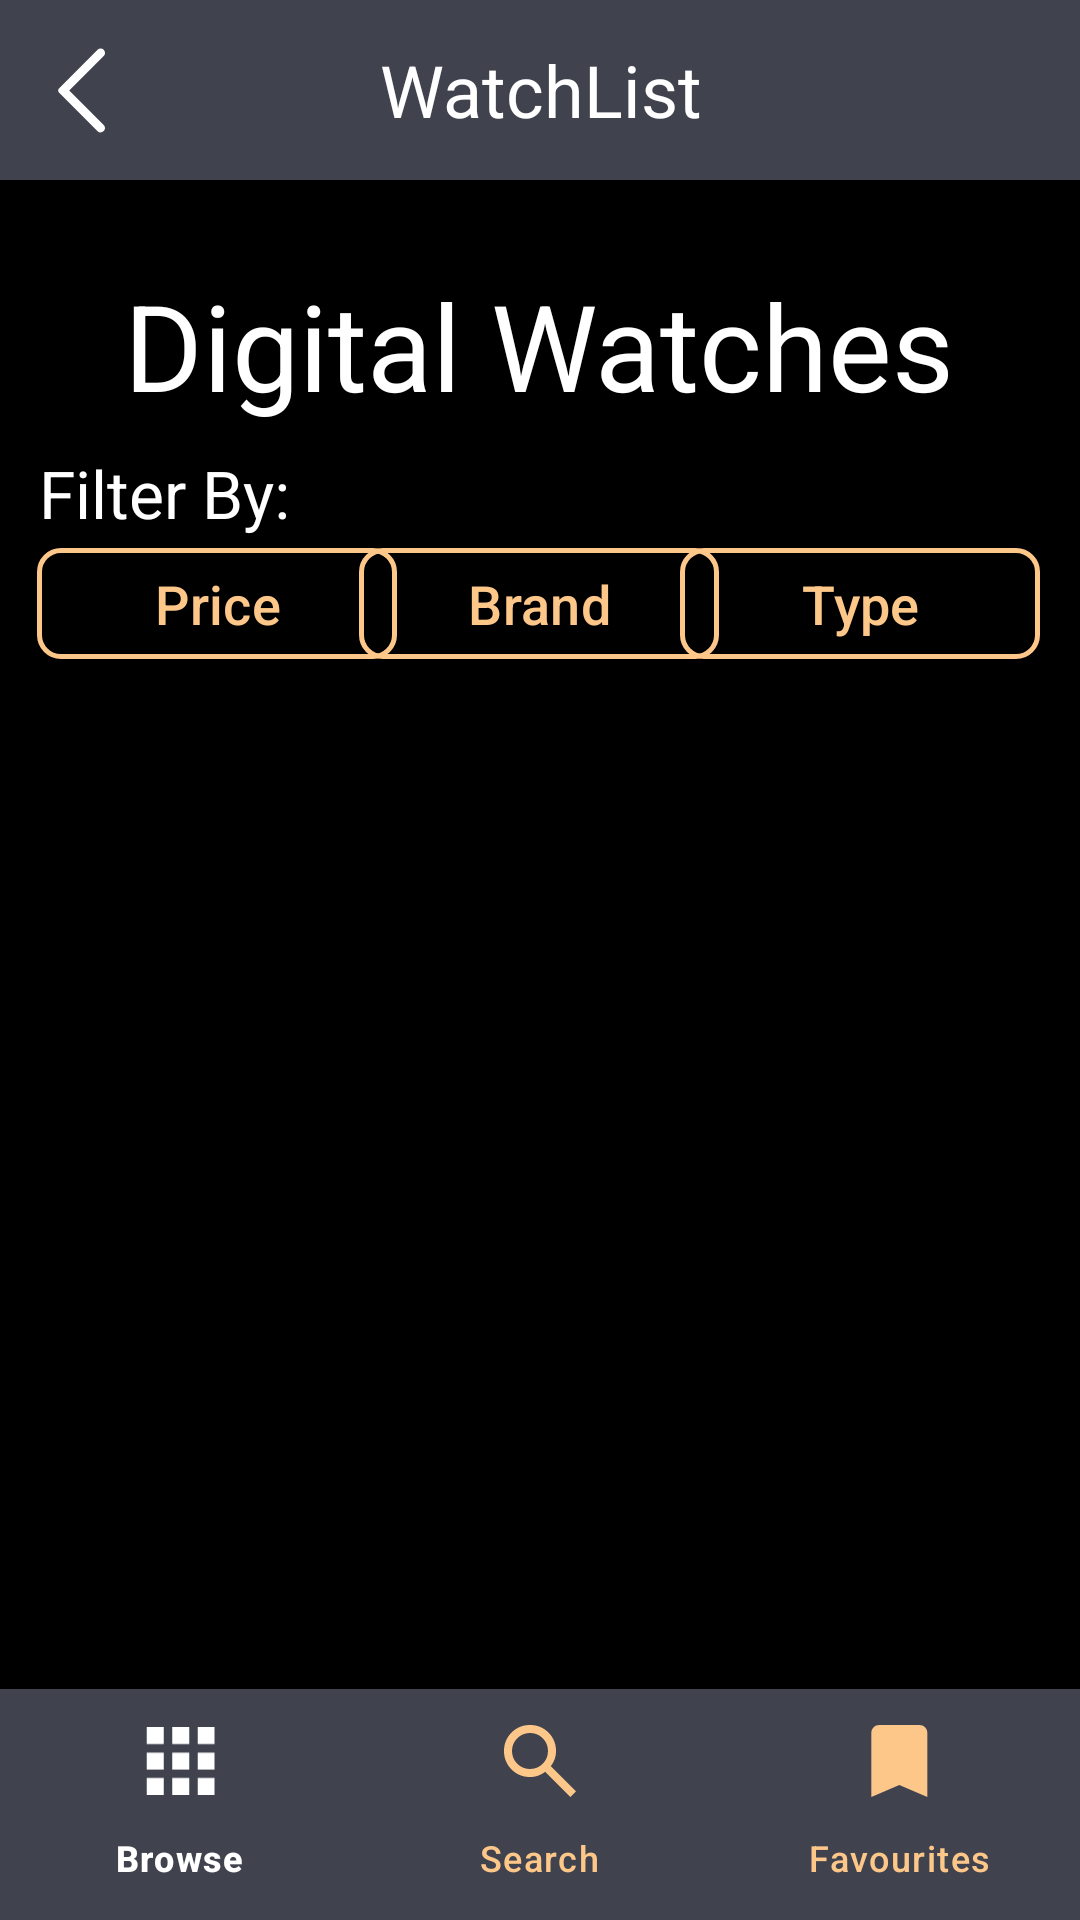

Icons on this 1080 x 1920 Android screen, each with the point to tap as point (x, y):
arrow back: point (81, 90)
